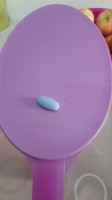Apranax: (36, 95, 60, 113)
